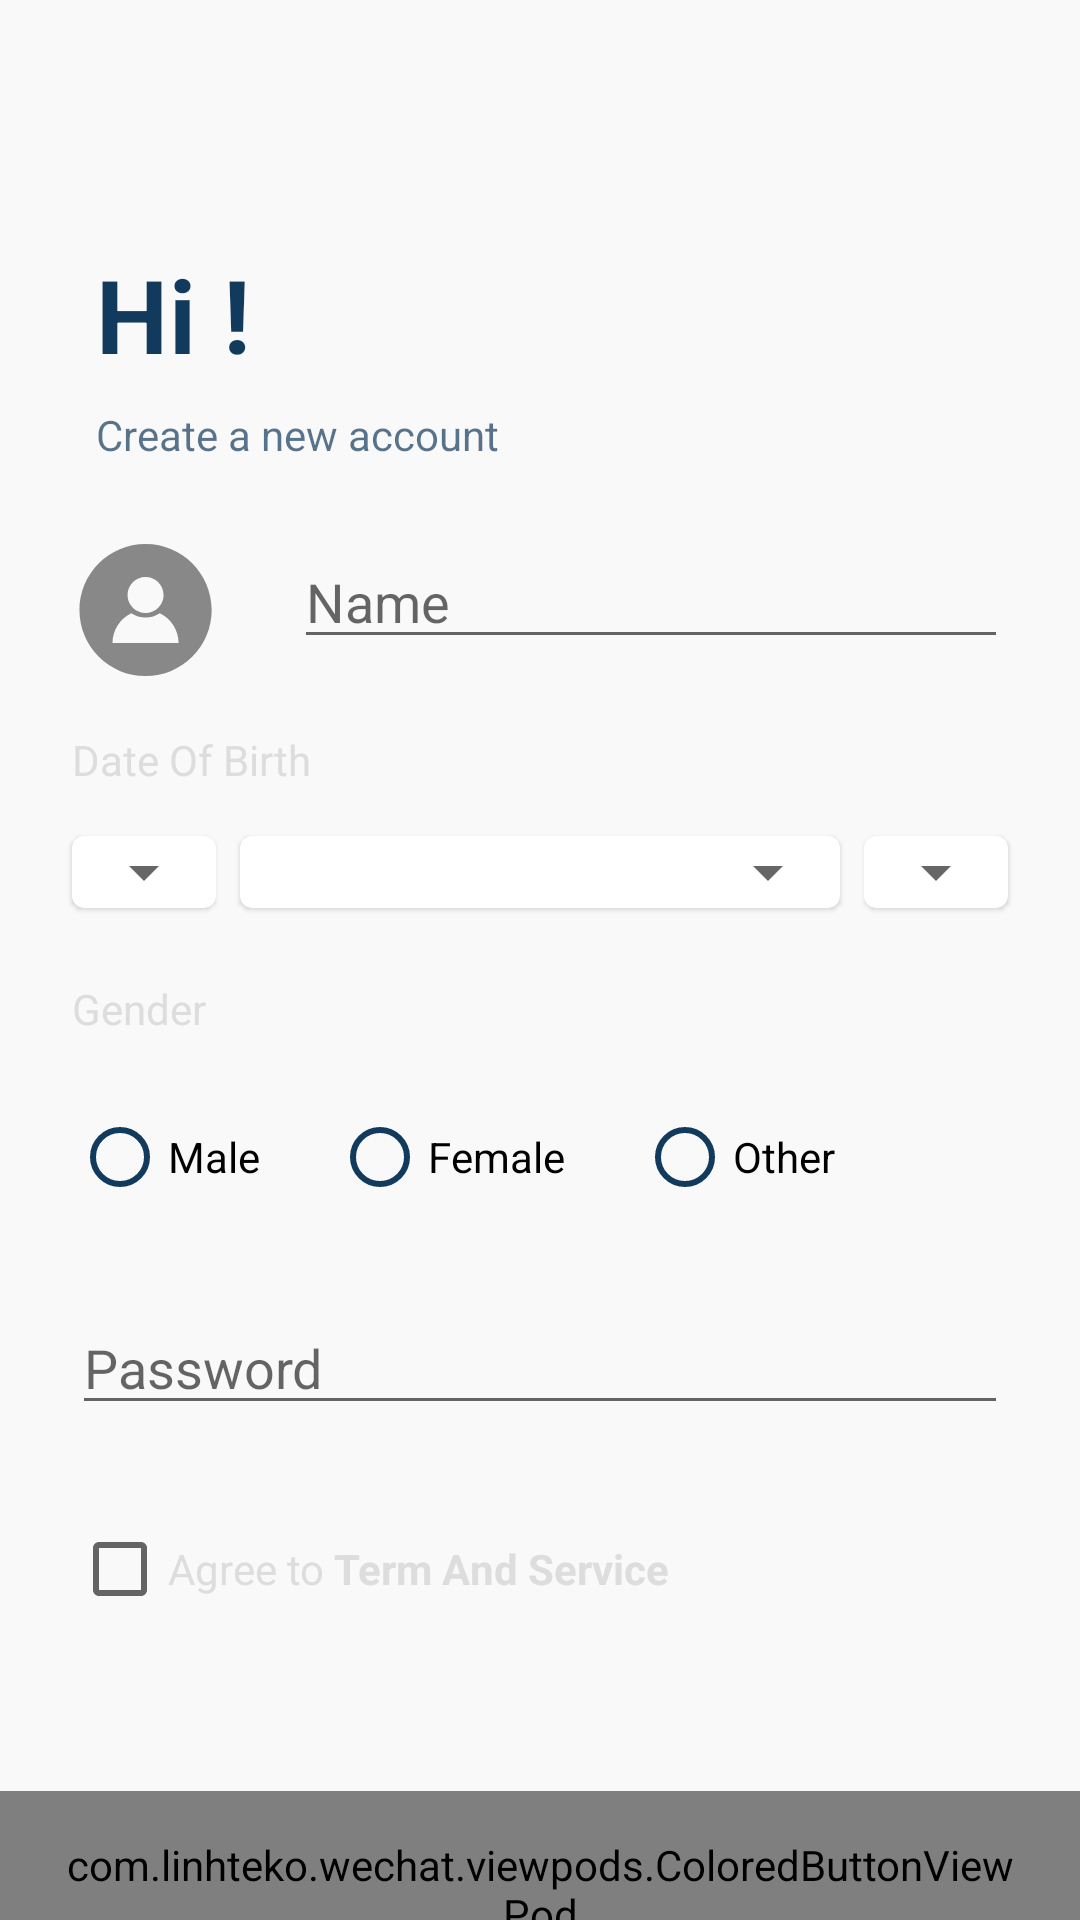

Point at icon controls on the screen. Image size 1080w x 1920h, points as (x,y).
profile: (145,610)
